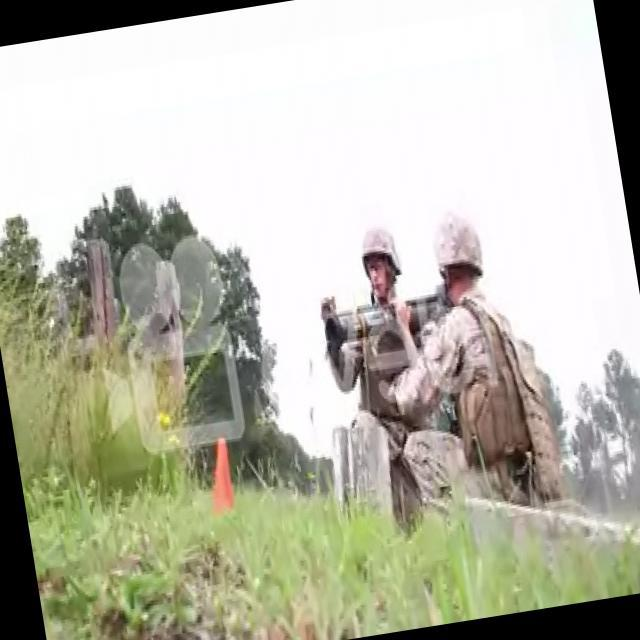rocket: (319, 288, 429, 362)
